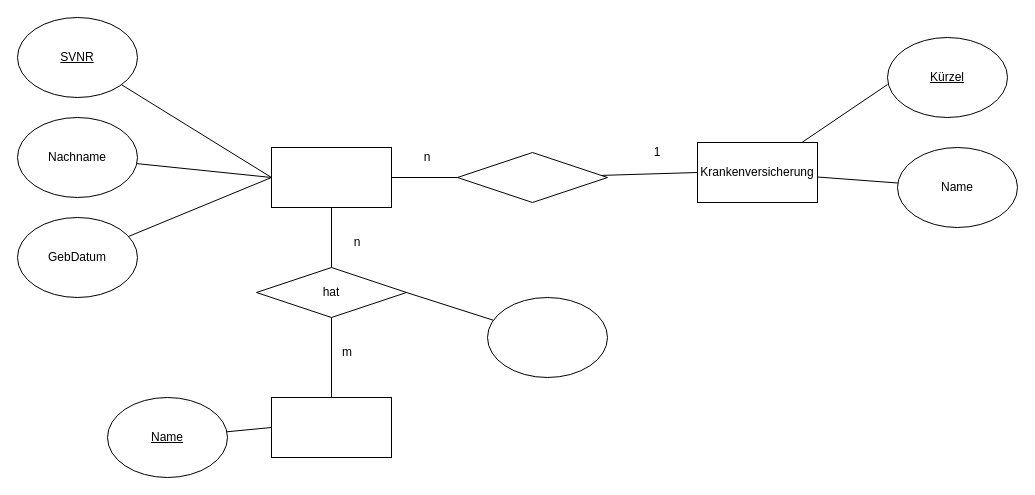
The diagram is 1035 pixels wide and 495 high, and some of its shapes have lost their labels. The shapes that lost their labels are listed below. From the top down, each one's centre as x and y in pixels, then its label:
point 331,177: Patient
point 532,177: versichert bei
point 547,337: Diagnosedatum
point 331,427: Krankheit
